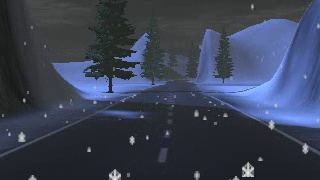Lane: (0, 79, 319, 179)
